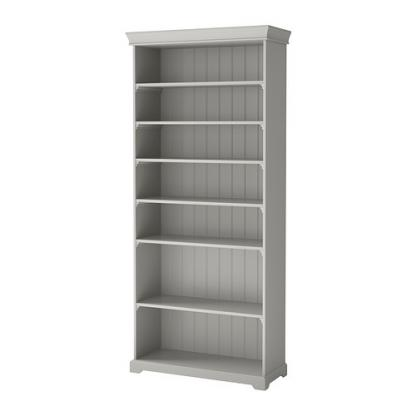Cabinet: (122, 20, 294, 395)
